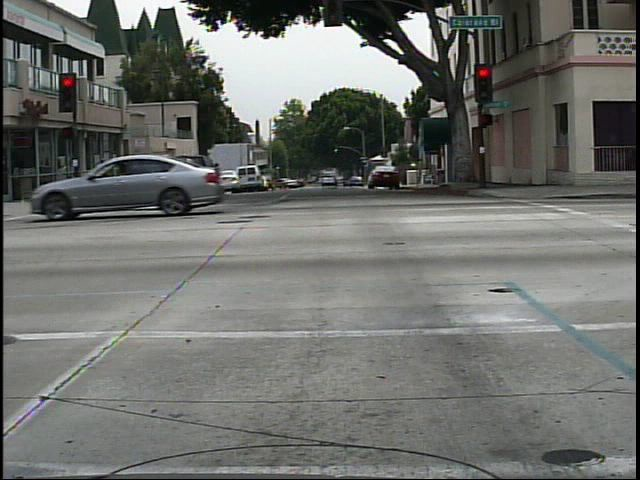person: (462, 139, 492, 195), (88, 152, 116, 202)
